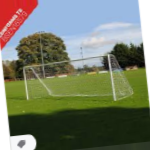goals: (22, 52, 135, 103)
